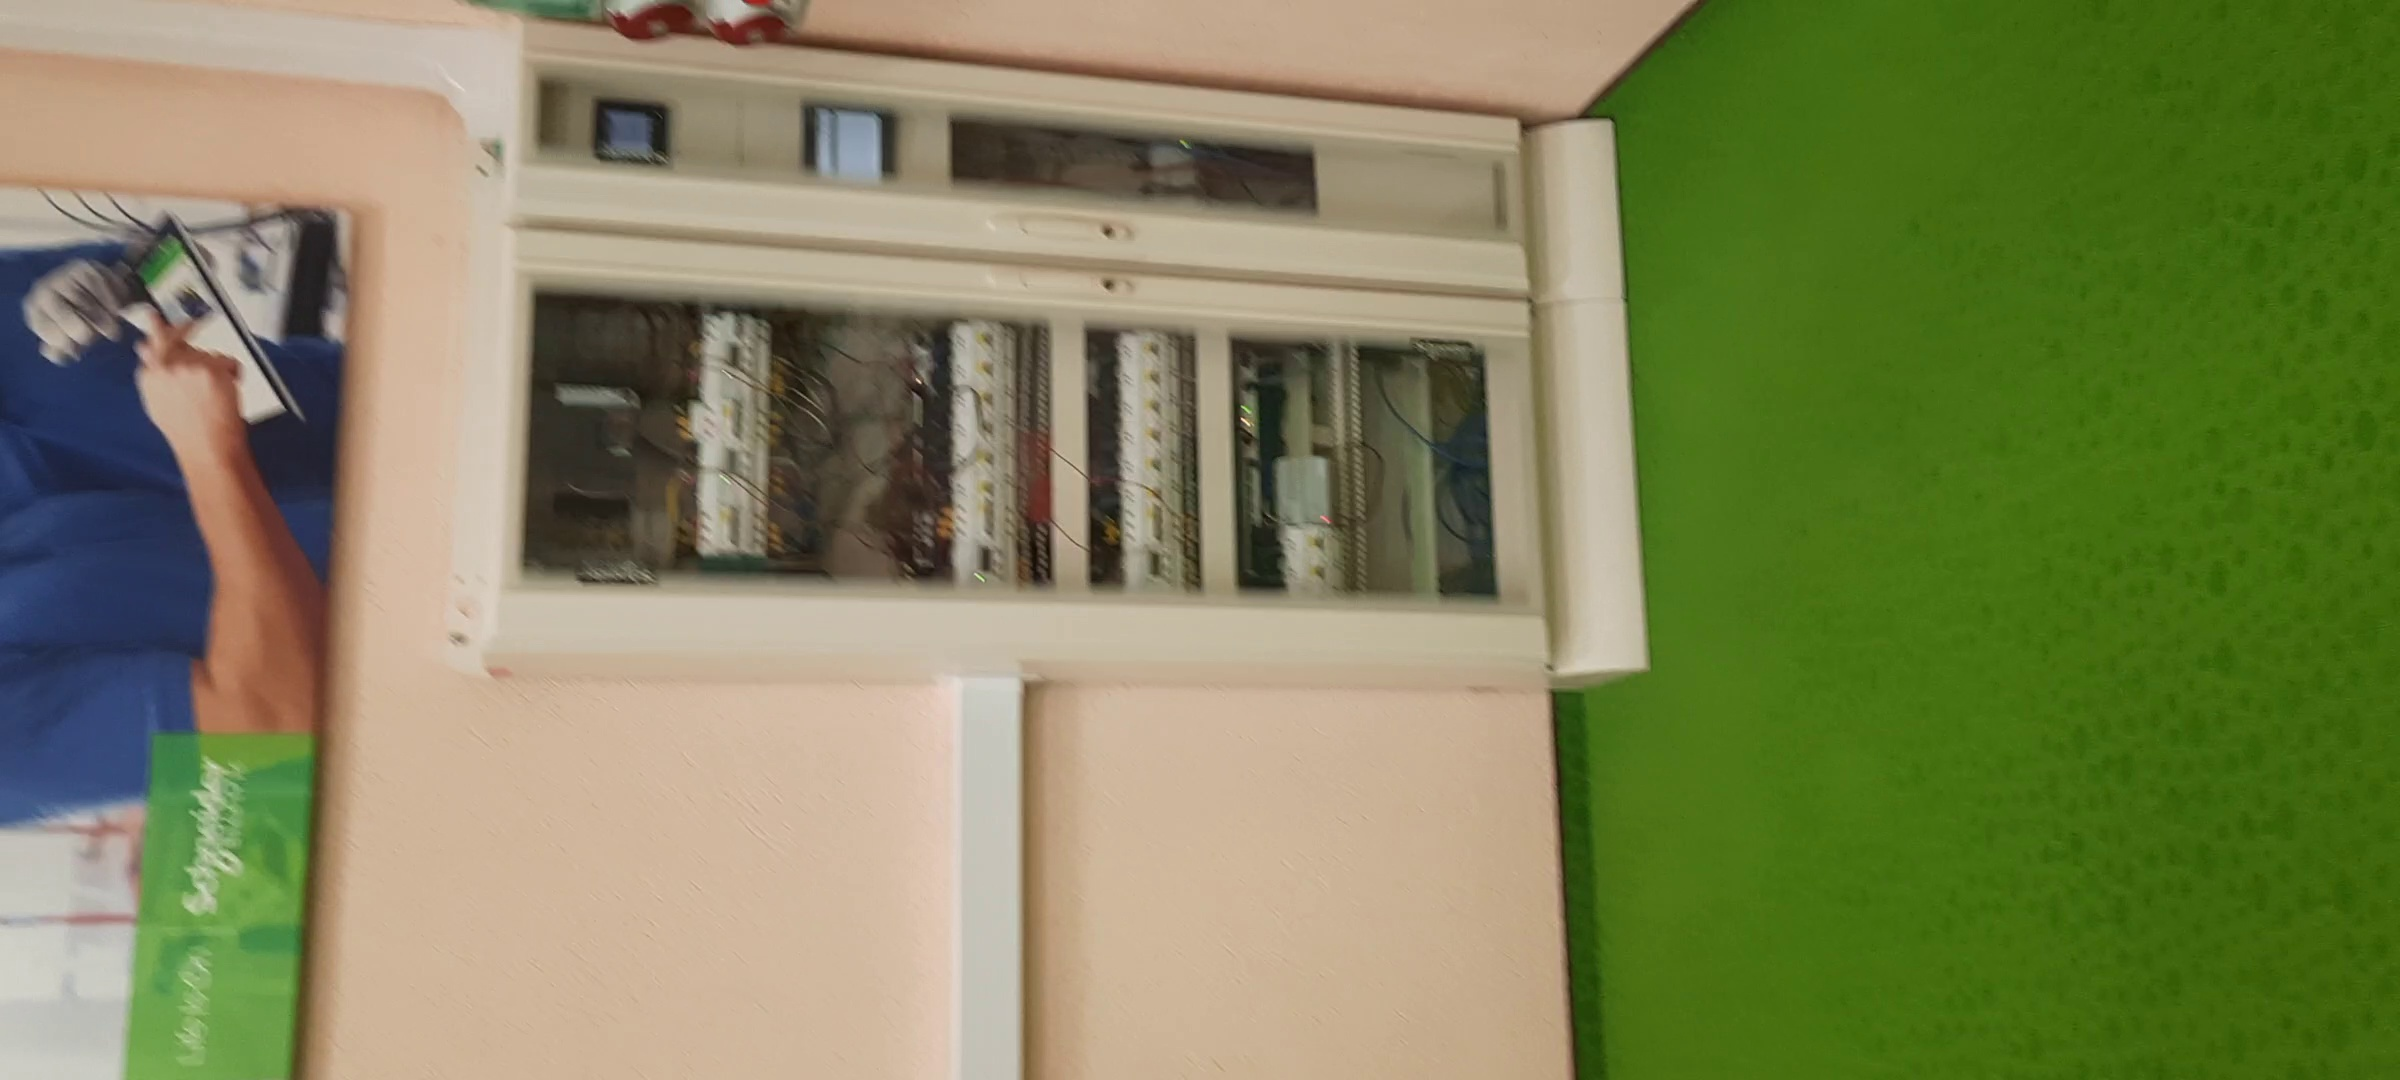stand1: (467, 76, 1653, 668)
